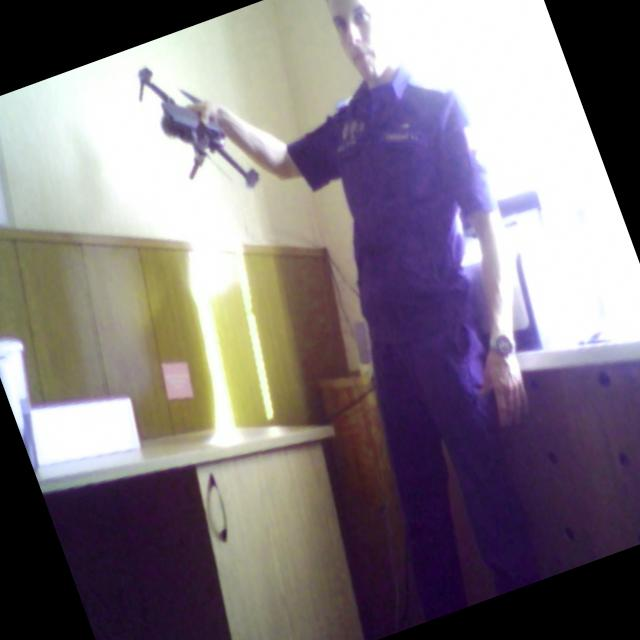drone: (125, 38, 269, 216)
